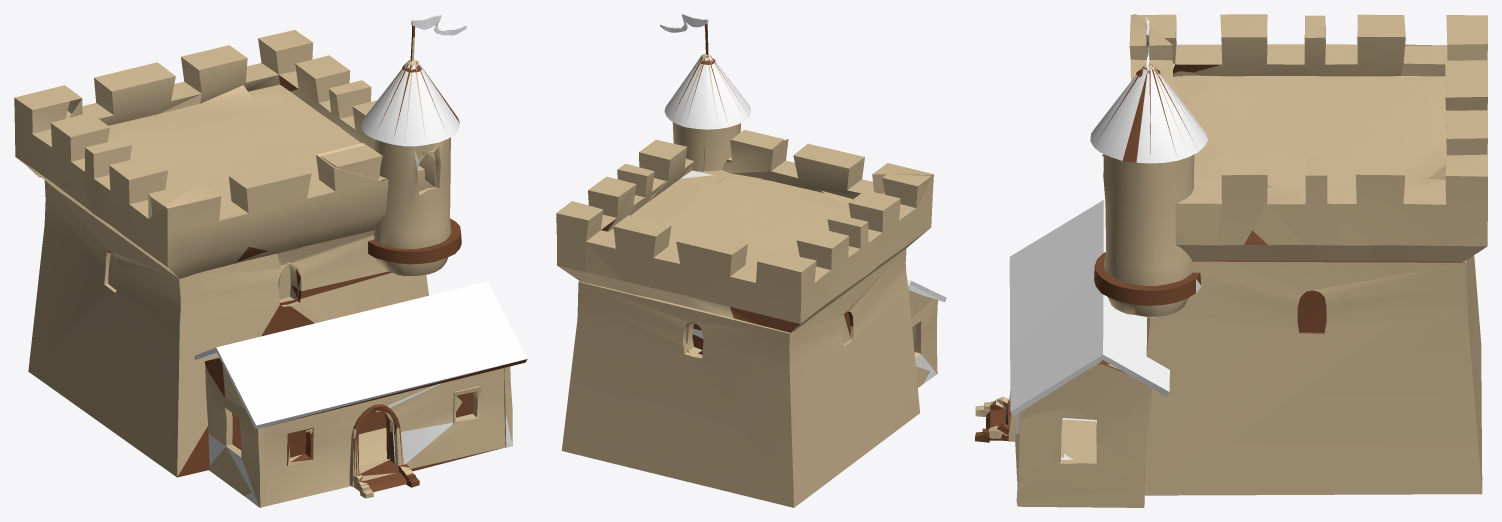
Rendered from castle.3.glb.
3 views of the same model, side by side, from view 1: azimuth 30°, elevation 25°; view 2: azimuth 150°, elevation 25°; view 3: azimuth 270°, elevation 25° (orthographic). The views are drawn at different scales.
Visible parts, largest first — view 1: castle; view 2: castle; view 3: castle.
Boxes of the visible parts, <box> form: castle: <box>14,14,527,507</box>; castle: <box>556,14,946,507</box>; castle: <box>975,14,1487,507</box>.
Size of the model in its own units: 2.37 by 2.9 by 2.9.
